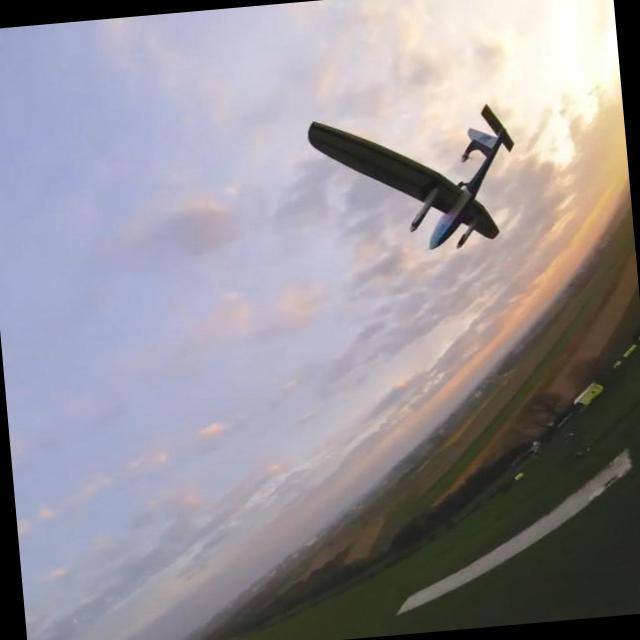UAV: (292, 97, 534, 273)
